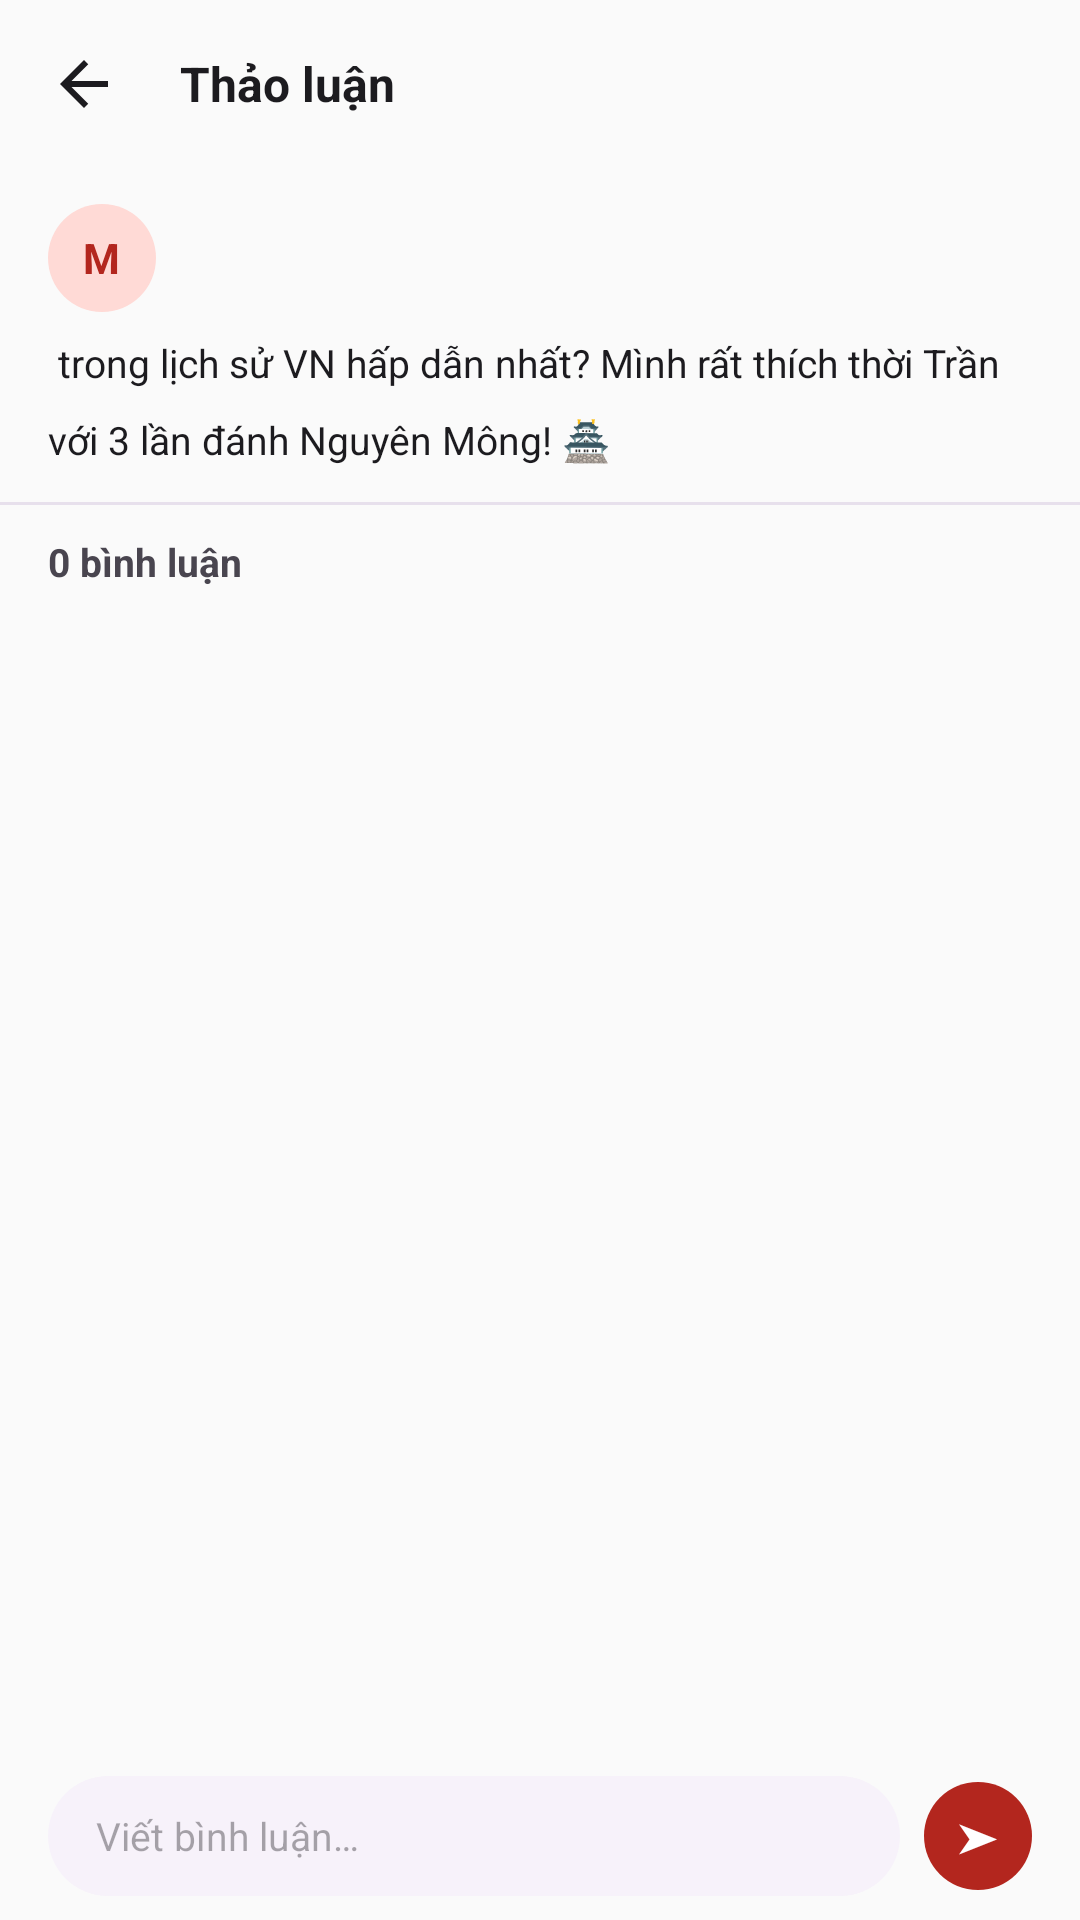

Icons on this 1080px×1920px Android screen, each with the point to tap as (x=x, y=y):
Back: (x=84, y=84)
